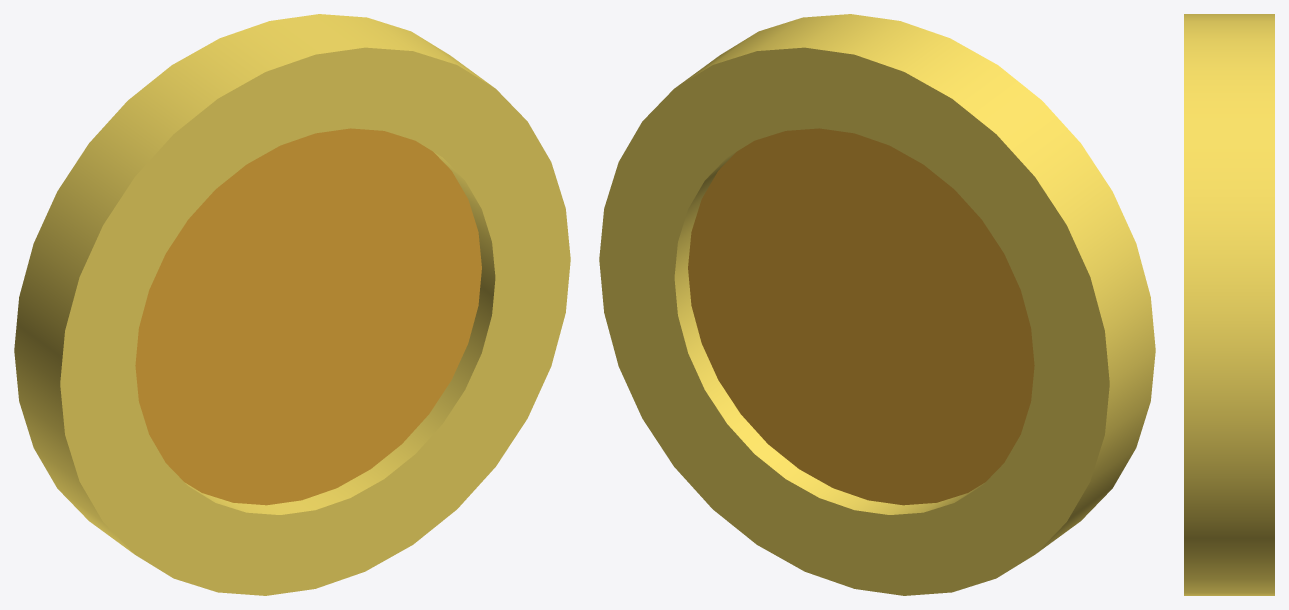
File: SM_Coin.FBX
3 views of the same model, side by side, from view 1: azimuth 30°, elevation 25°; view 2: azimuth 150°, elevation 25°; view 3: azimuth 270°, elevation 25° (orthographic).
Parts seen in each view (by area): view 1: SM_Coin; view 2: SM_Coin; view 3: SM_Coin.
Part boxes in pixels (x1,y1,x2,y2): SM_Coin: (14, 14, 570, 595); SM_Coin: (599, 14, 1155, 595); SM_Coin: (1184, 14, 1274, 595).
Size of what is drawn, in the model's own units: 50 by 7.79 by 50.
